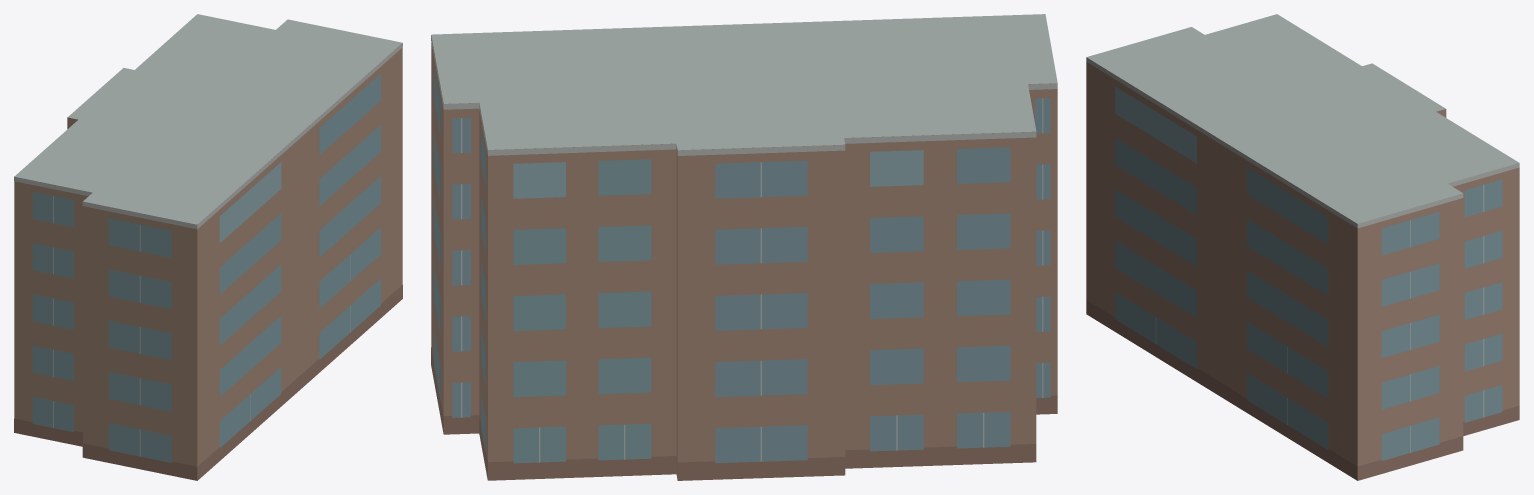
File: survey-upis-32753074.glb
3 renders of one model, left to right at view 1: azimuth 30°, elevation 25°; view 2: azimuth 150°, elevation 25°; view 3: azimuth 270°, elevation 25°, orthographic. The views are drawn at different scales.
Visible parts, largest first — view 1: survey-upis-32753074.tmp; view 2: survey-upis-32753074.tmp; view 3: survey-upis-32753074.tmp.
Part boxes in pixels (x1,y1,x2,y2): survey-upis-32753074.tmp: [14, 14, 402, 480]; survey-upis-32753074.tmp: [431, 14, 1057, 480]; survey-upis-32753074.tmp: [1086, 14, 1519, 480].
Size of the model in its own units: 24.18 by 13.8 by 21.1.
